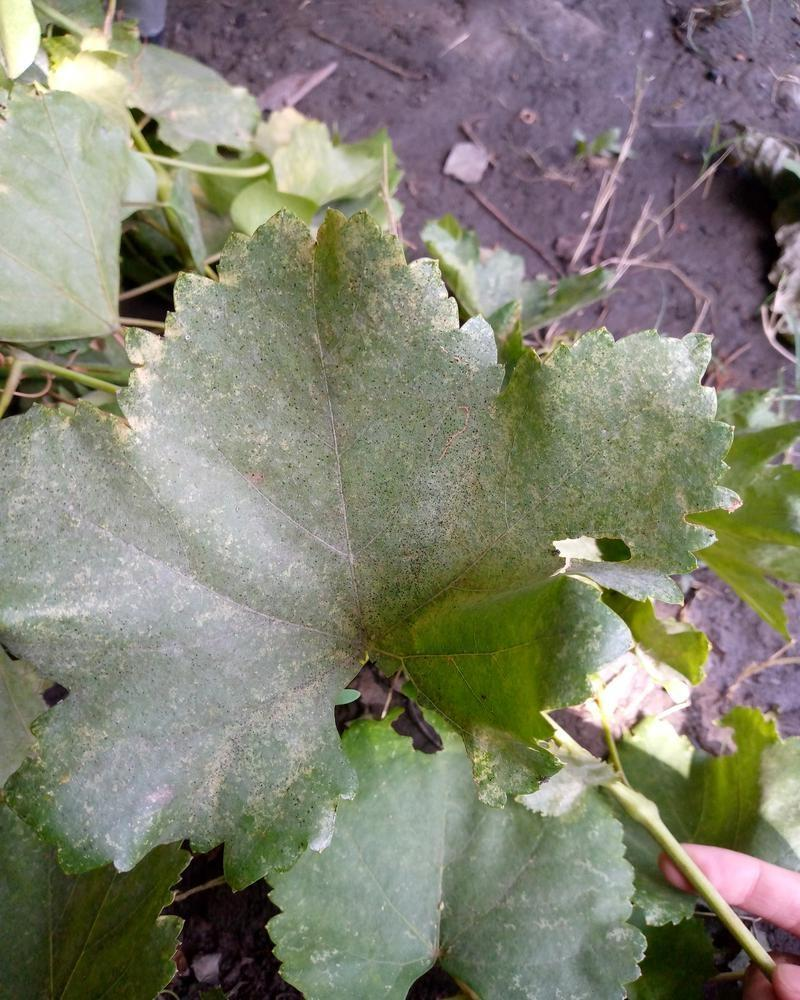Powdery-Mildew: (51, 392, 262, 633), (375, 408, 524, 553), (173, 669, 321, 807), (95, 773, 158, 836)
